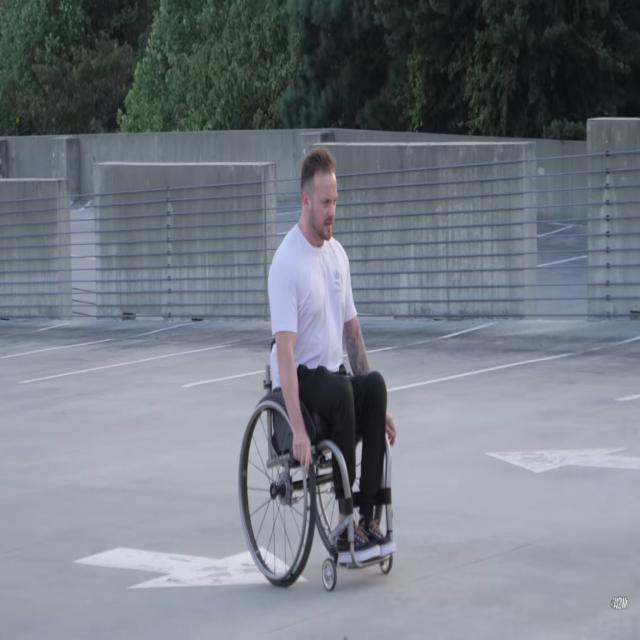wheelchairs: (239, 352, 394, 585)
